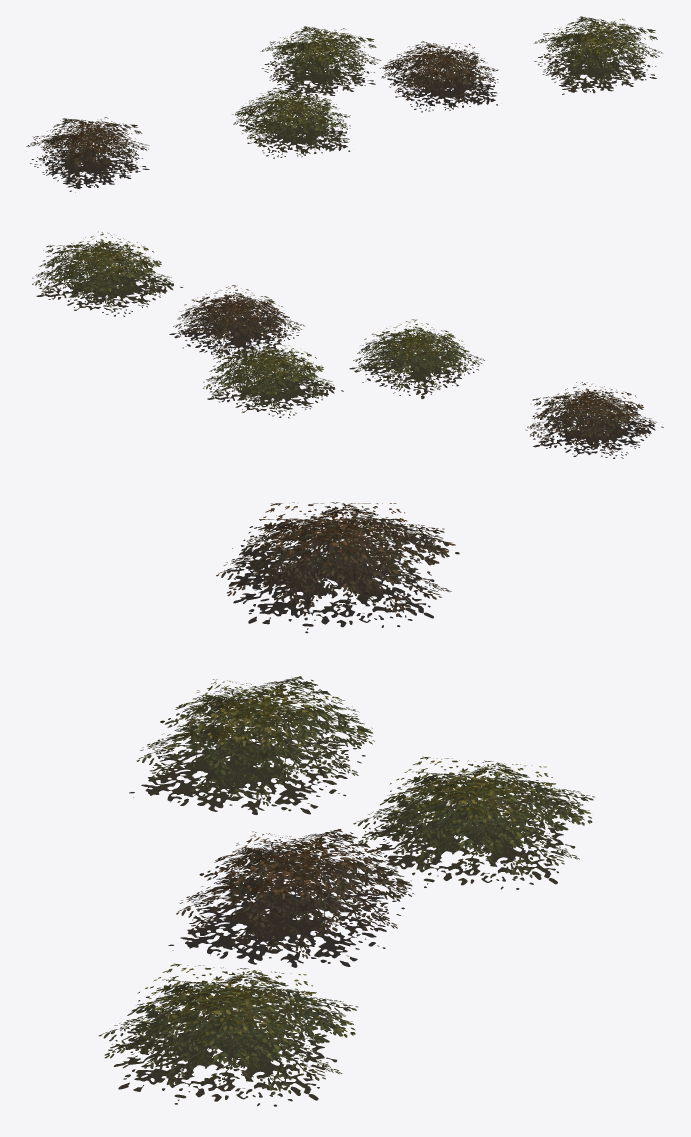
The model's file is plants_bushes03.fbx.
3 views of the same model, one above another, from view 1: azimuth 30°, elevation 25°; view 2: azimuth 150°, elevation 25°; view 3: azimuth 270°, elevation 25° (orthographic). The views are drawn at different scales.
Parts seen in each view (by area): view 1: plants_bushes03-0; view 2: plants_bushes03-0; view 3: plants_bushes03-0.
Boxes of the visible parts, left/top/right/bottom form: plants_bushes03-0: left=26, top=16, right=663, bottom=192; plants_bushes03-0: left=32, top=231, right=663, bottom=458; plants_bushes03-0: left=98, top=502, right=594, bottom=1106.
Bounding box in the file's own units: 19.93 × 1.26 × 7.95.
